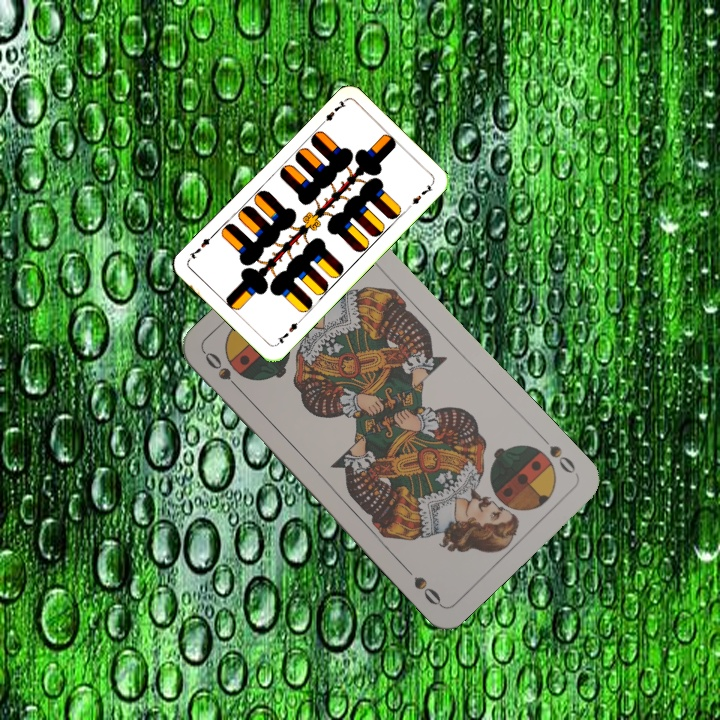E7: (316, 96, 349, 129), (272, 315, 304, 348)
SO: (200, 347, 246, 396), (536, 431, 579, 476)
